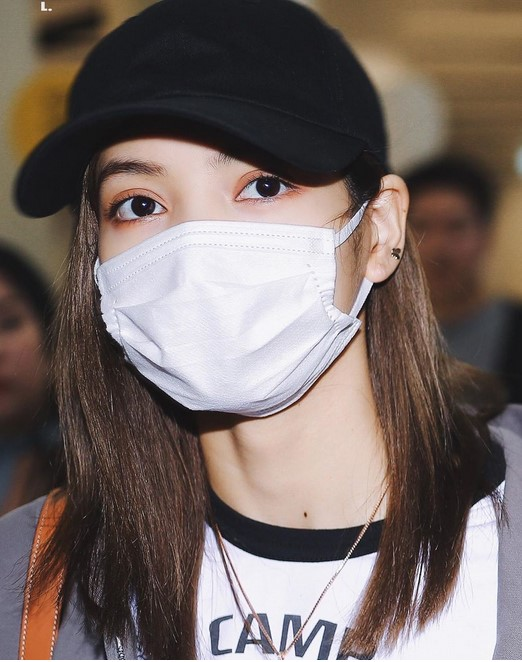face_with_mask: (12, 0, 415, 427)
